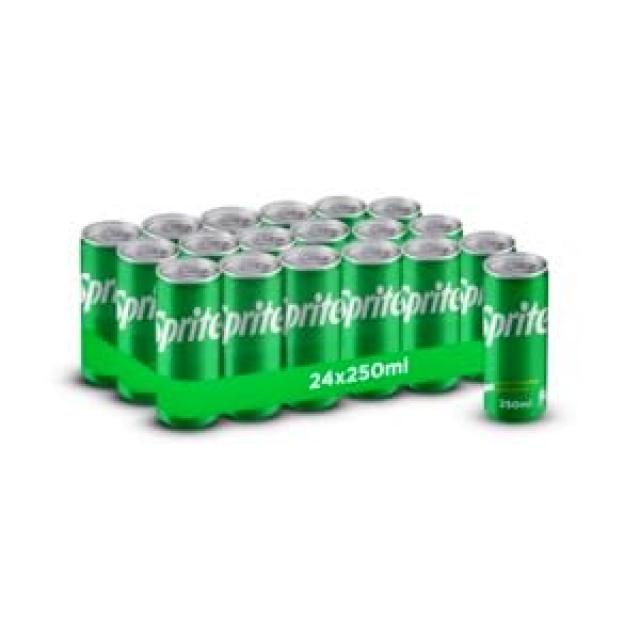sprite: (478, 259, 549, 429), (161, 255, 225, 438), (394, 237, 468, 380), (72, 227, 134, 396), (334, 244, 406, 372), (274, 249, 342, 381), (224, 258, 283, 399), (113, 238, 164, 396), (463, 239, 512, 359)
